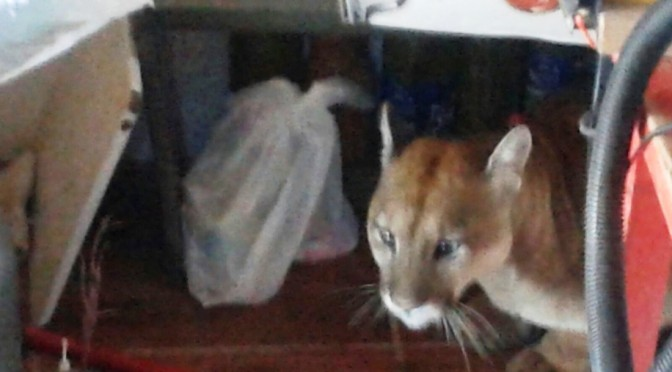OncaParda: (356, 98, 595, 367)
